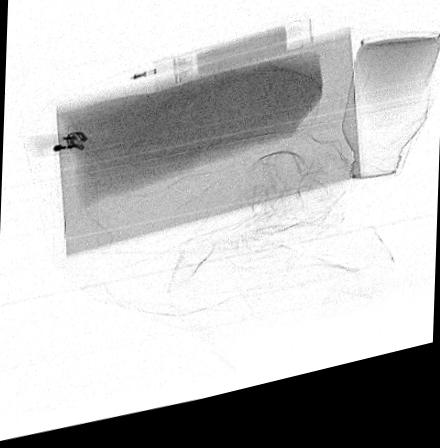Lighter: (22, 133, 88, 160)
